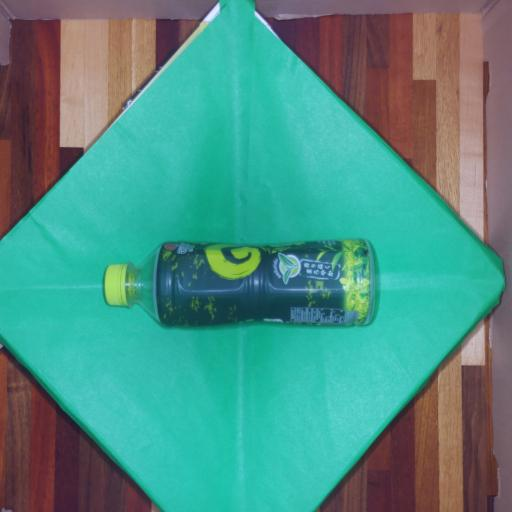bottle: (104, 240, 373, 325)
